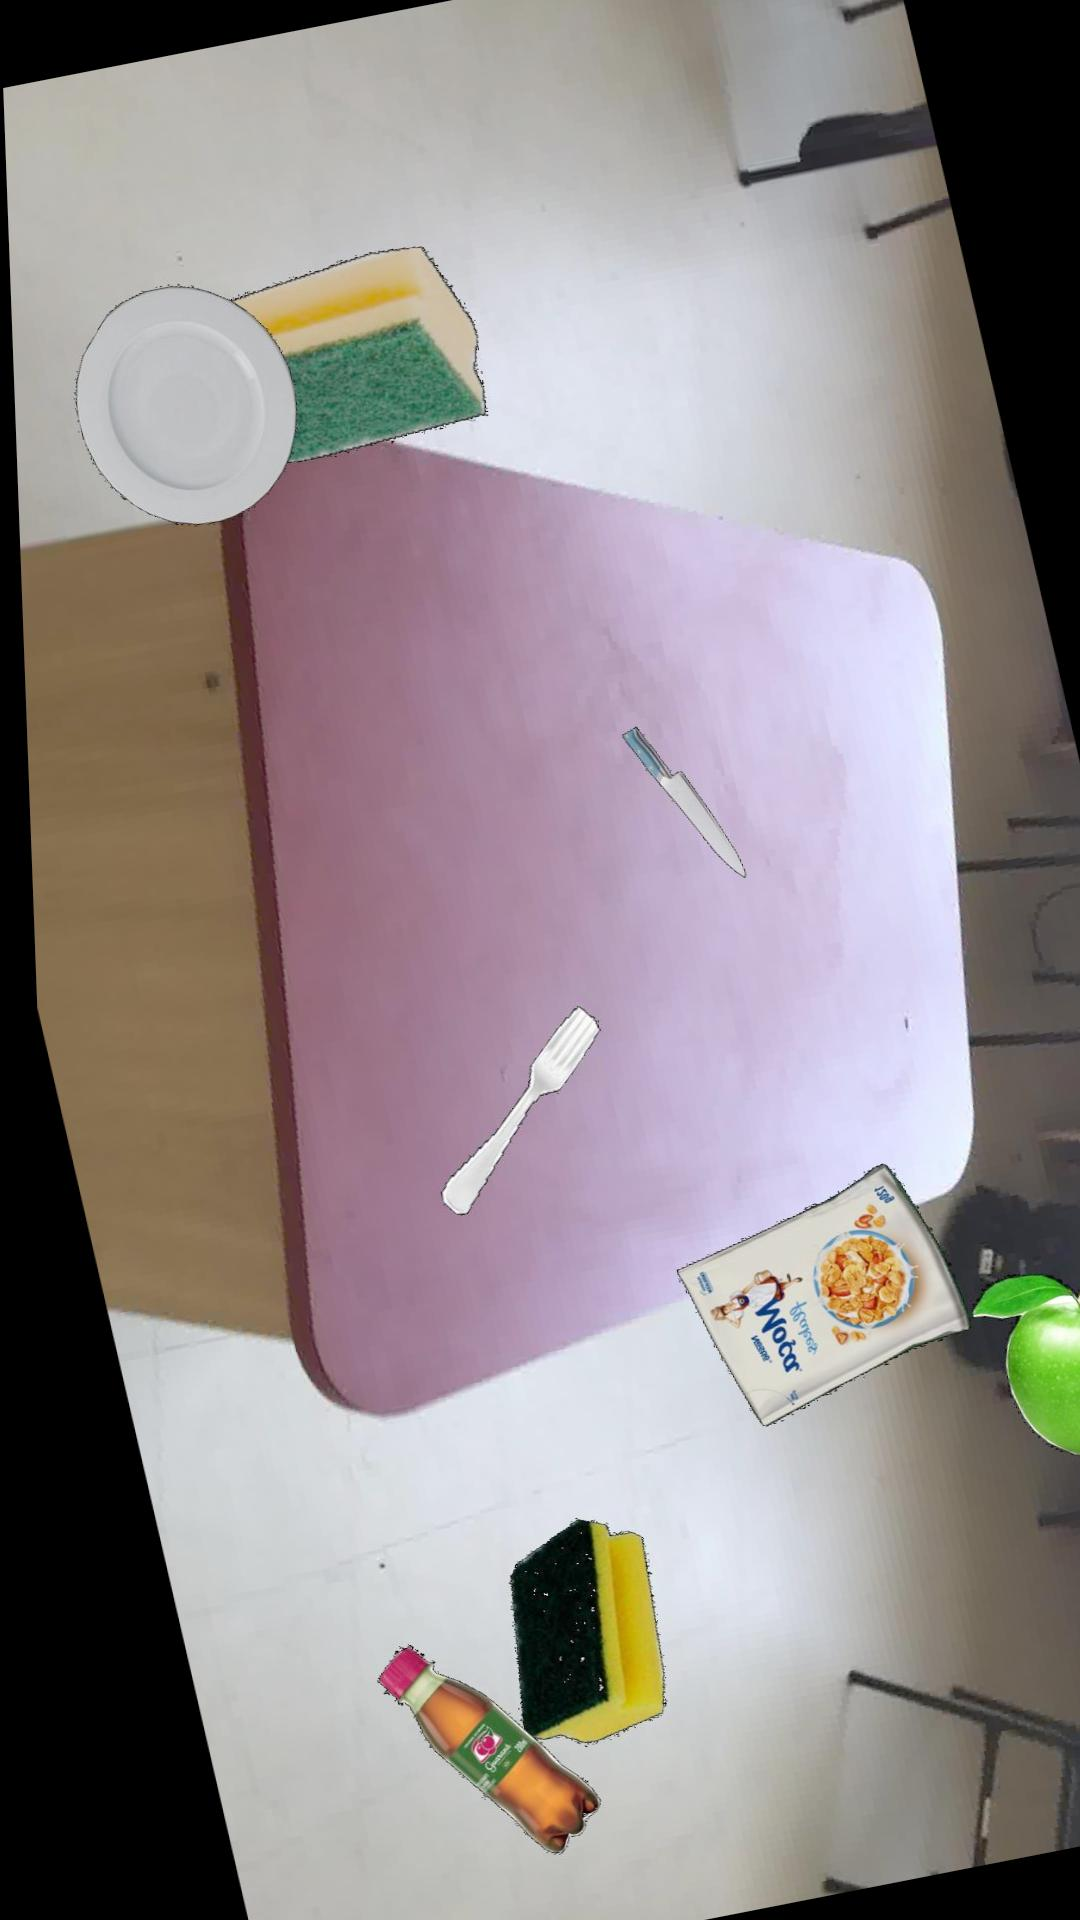corn flakes: (663, 1162, 957, 1424)
fork: (429, 1004, 589, 1213)
green apple: (959, 1273, 1080, 1453)
guarana: (361, 1643, 583, 1851)
knife: (613, 724, 736, 876)
plate: (70, 284, 291, 524)
sponge: (225, 245, 483, 460), (493, 1516, 650, 1742)
